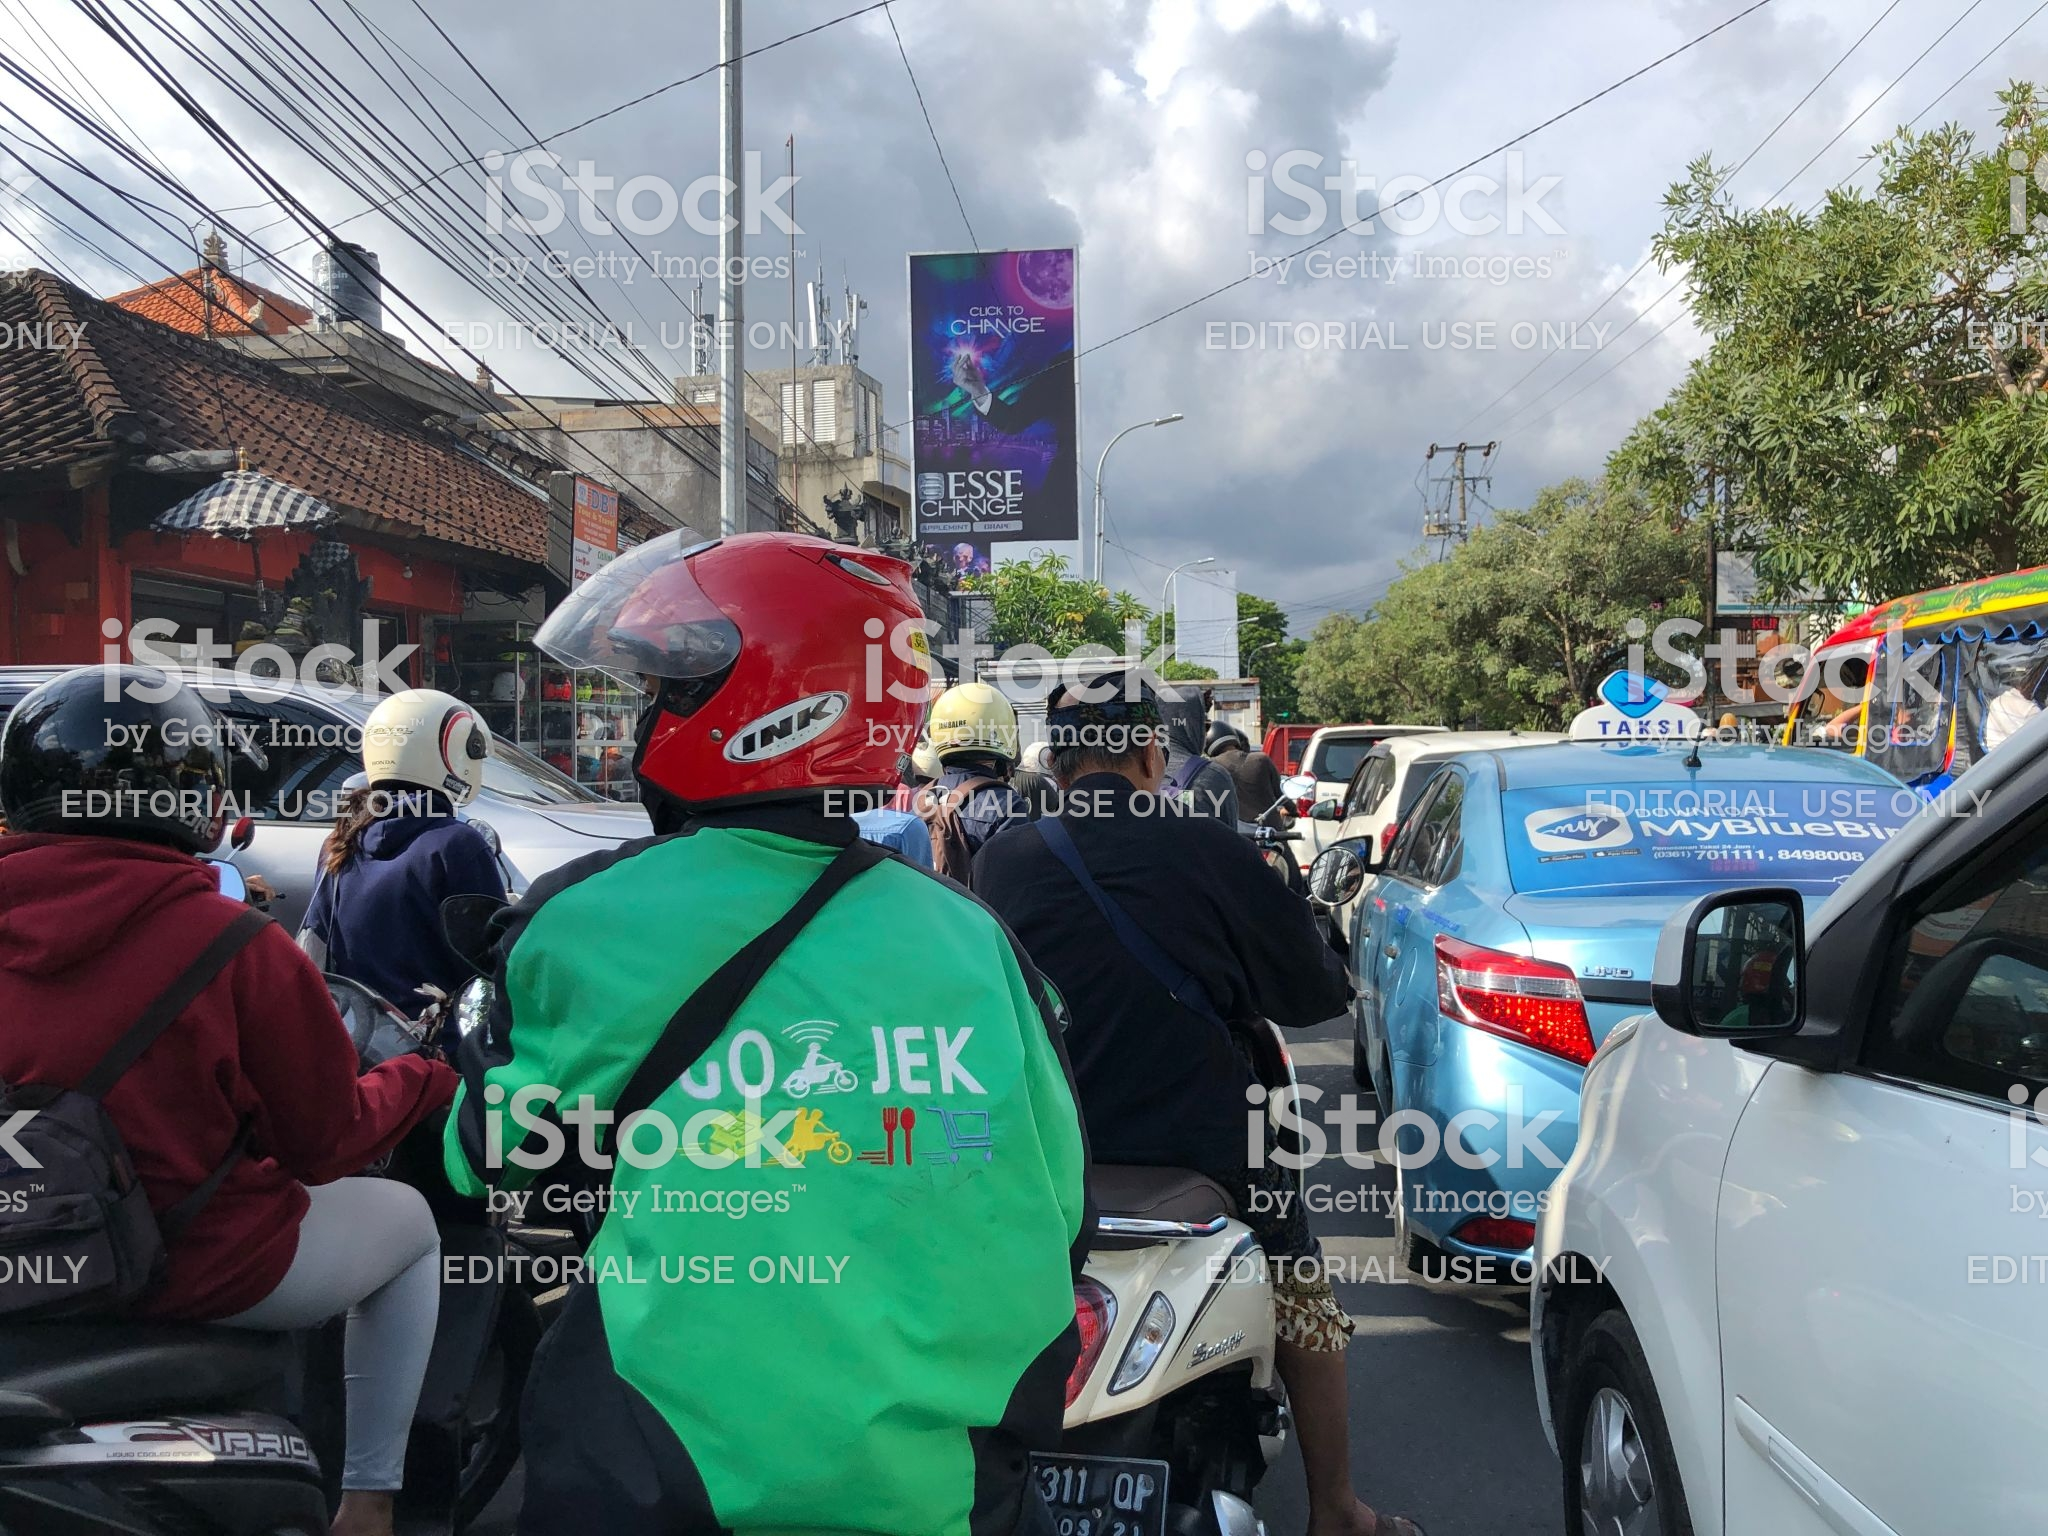helmet: (619, 536, 984, 818)
